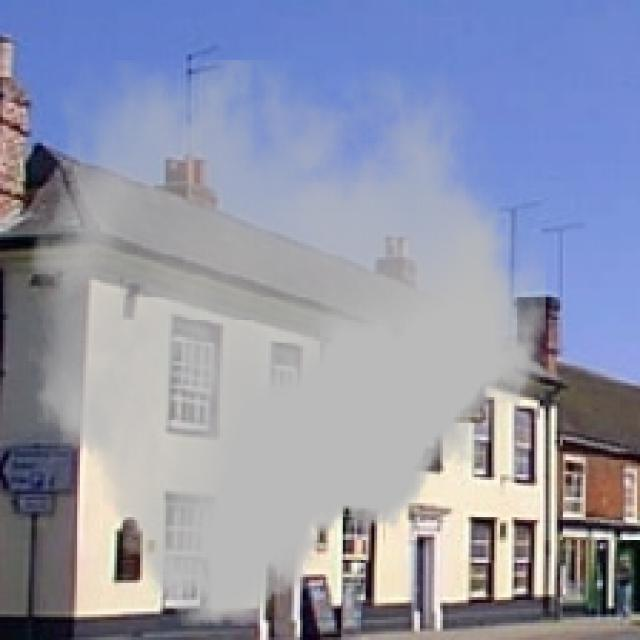smoke: (28, 60, 546, 626)
